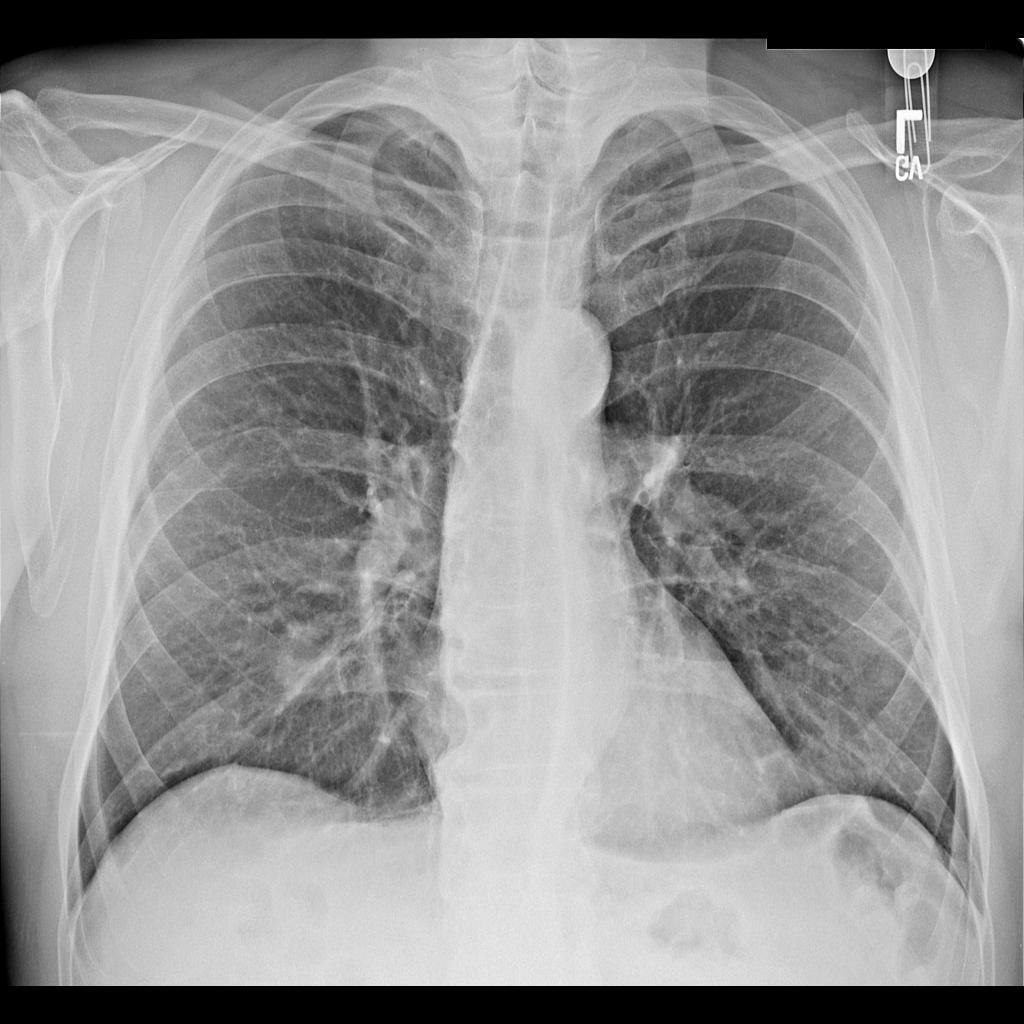Nodule: (272, 608, 361, 708)
